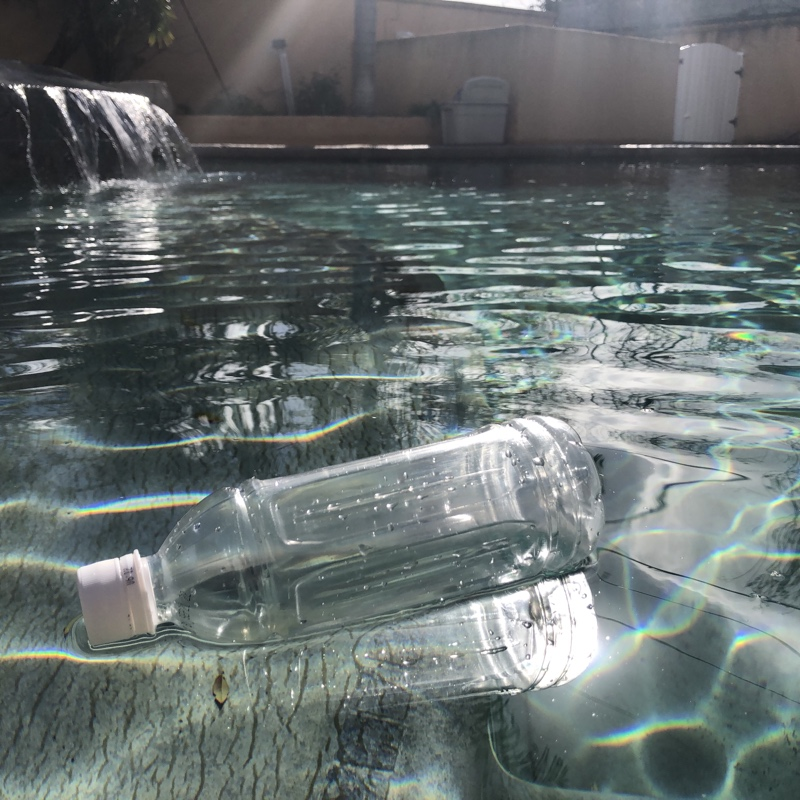Plastic Bottle: (69, 412, 617, 660)
